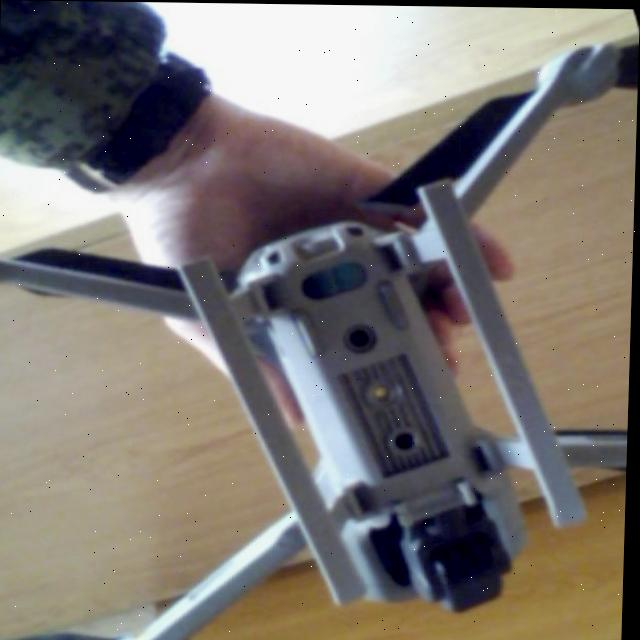drone: (0, 48, 639, 640)
